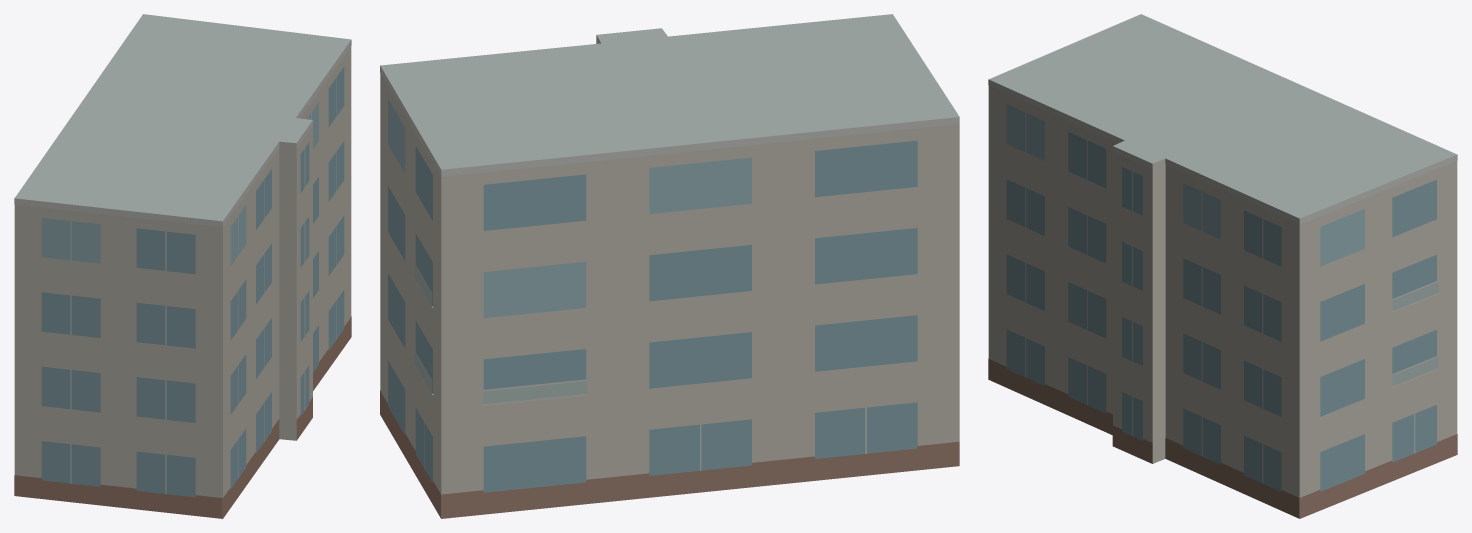
Rendered from survey-upis-33031811.glb.
3 renders of one model, left to right at view 1: azimuth 30°, elevation 25°; view 2: azimuth 150°, elevation 25°; view 3: azimuth 270°, elevation 25°, orthographic. The views are drawn at different scales.
Parts seen in each view (by area): view 1: survey-upis-33031811.tmp; view 2: survey-upis-33031811.tmp; view 3: survey-upis-33031811.tmp.
Boxes of the visible parts, x1,y1,x2,y2 form: survey-upis-33031811.tmp: (14, 14, 351, 518); survey-upis-33031811.tmp: (380, 14, 959, 518); survey-upis-33031811.tmp: (988, 14, 1457, 518).
Size of the model in its own units: 17.75 by 12.14 by 17.19.
